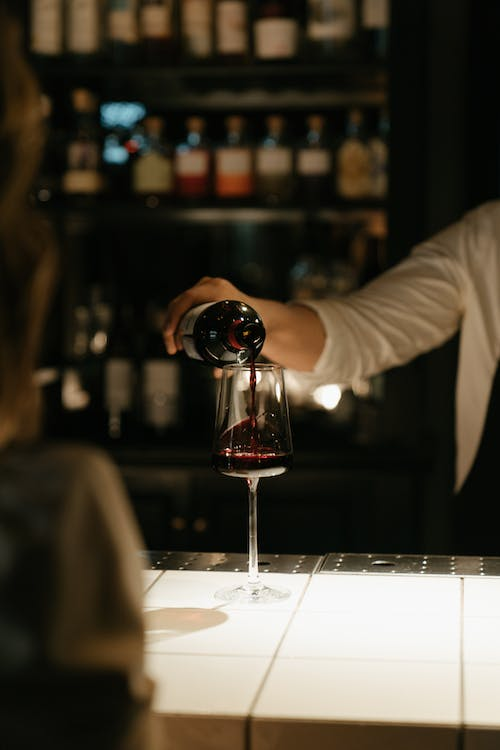alcohol: (210, 357, 296, 606), (172, 298, 268, 370), (60, 89, 101, 193), (303, 0, 360, 65), (335, 112, 375, 202), (253, 117, 295, 197), (251, 0, 302, 65), (131, 116, 173, 193), (173, 116, 215, 193), (295, 118, 335, 197), (215, 116, 253, 195), (23, 0, 66, 63), (173, 0, 214, 64), (214, 0, 251, 65), (67, 0, 104, 63), (104, 0, 138, 64), (138, 0, 172, 63), (360, 0, 387, 65)
